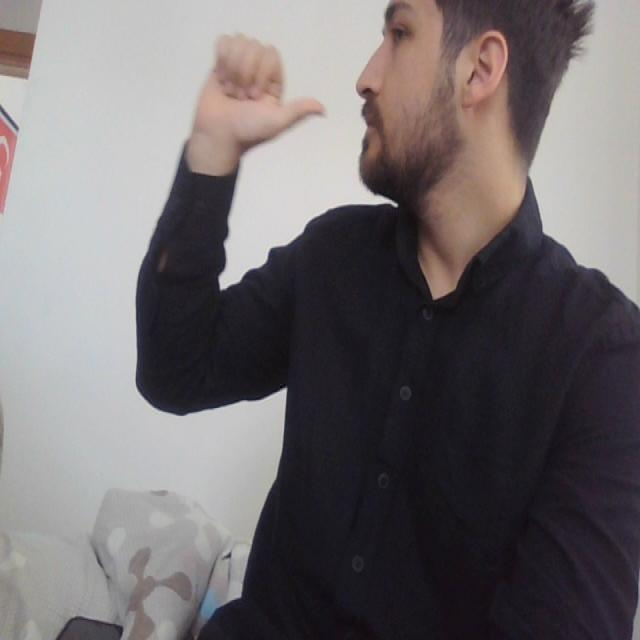icmek: (182, 37, 381, 166)
